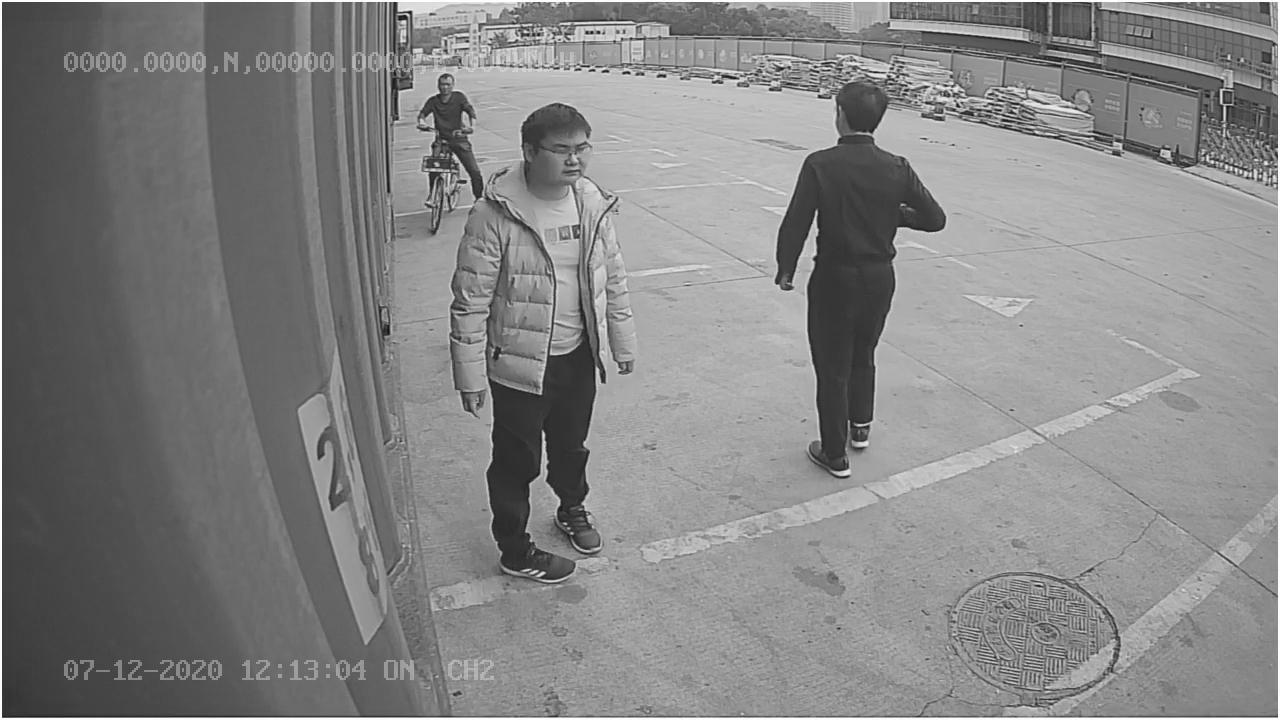person: (440, 87, 657, 594), (773, 77, 951, 476)
